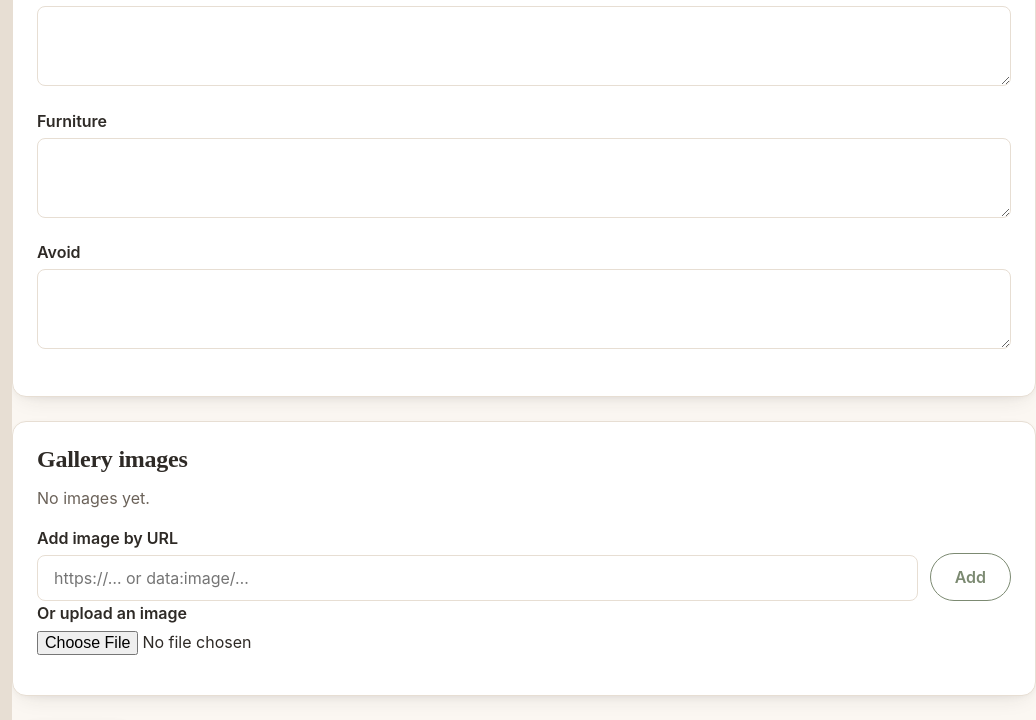
Scenario: StyleEditPage › create mode › adding an image by URL appends it to the gallery list
This screenshot has width=1036, height=720.
(page scrolled)
Type "https://example.com/pic.jpg" into the field labelled "Add image by URL" at x=477, y=578, box [37,555,918,601]
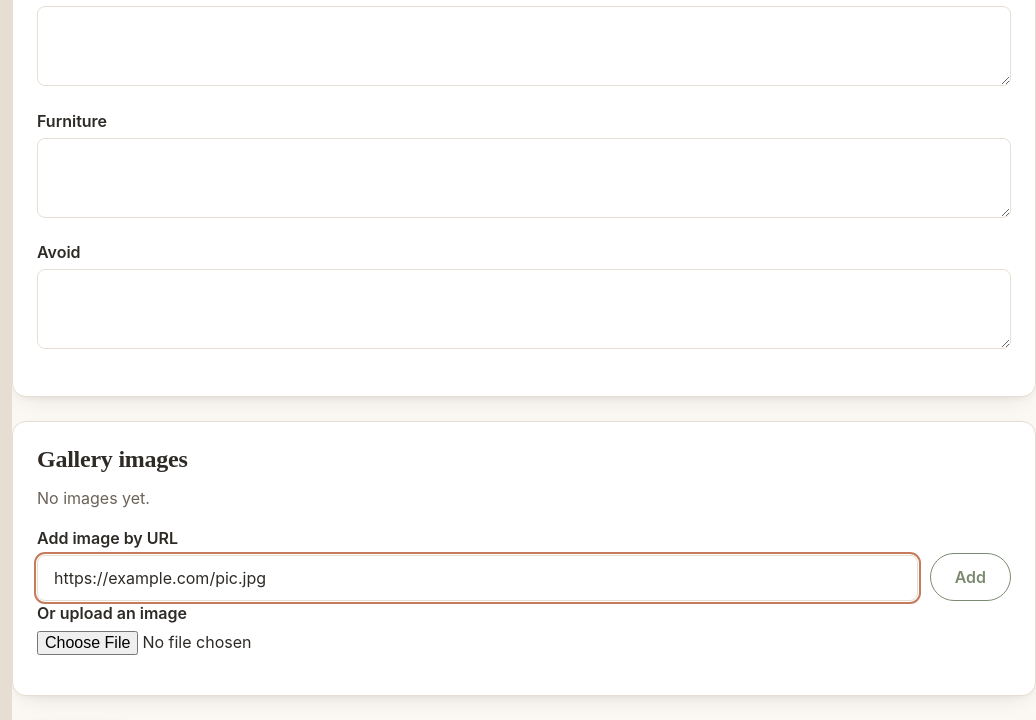
Click the button "Add" at x=970, y=577, box [930,553,1011,601]
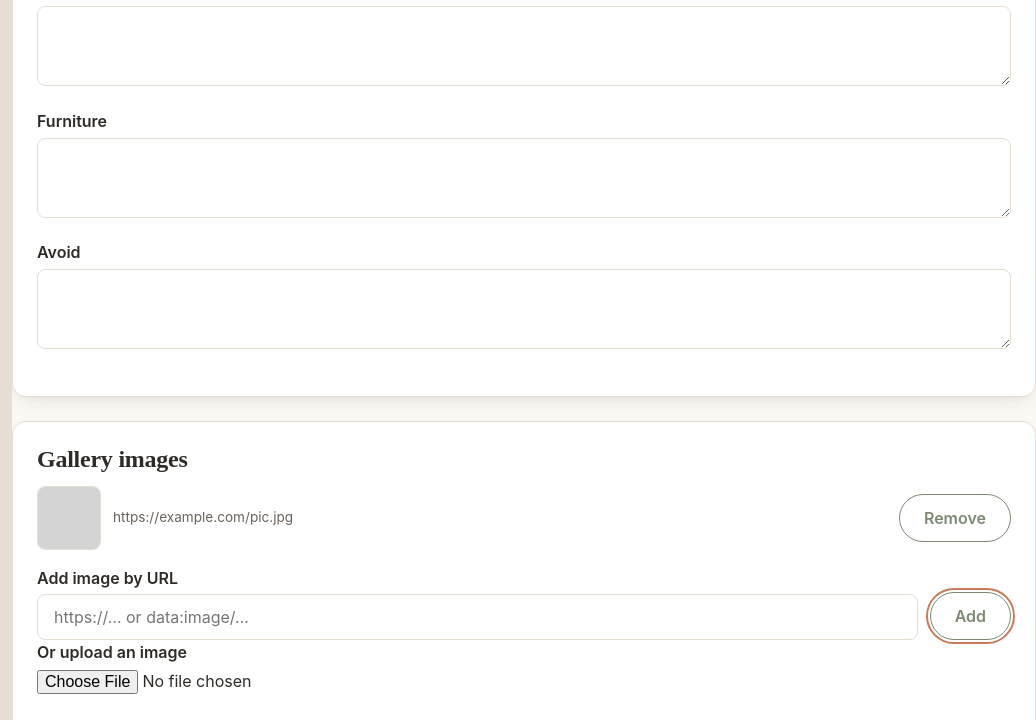
Result: the text "https://example.com/pic.jpg" is shown at [113,509,293,525]
